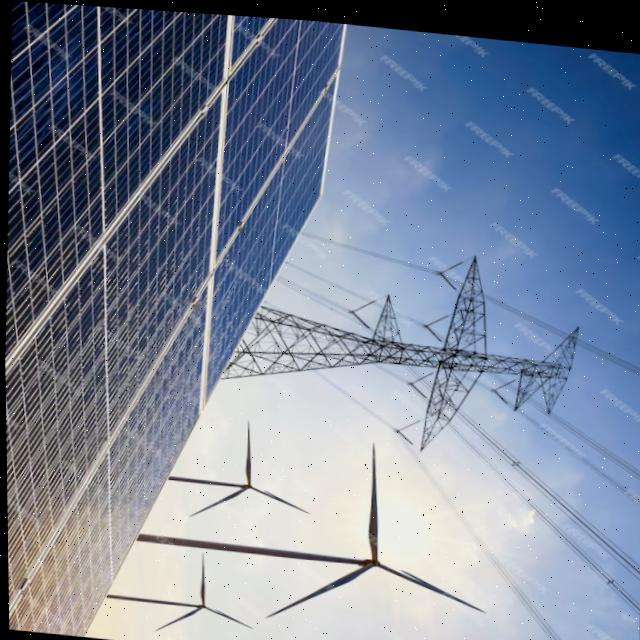solid-blade: (270, 559, 372, 611), (366, 442, 375, 556)
wind-turbine: (136, 443, 480, 613), (167, 419, 305, 512), (104, 552, 248, 628)
